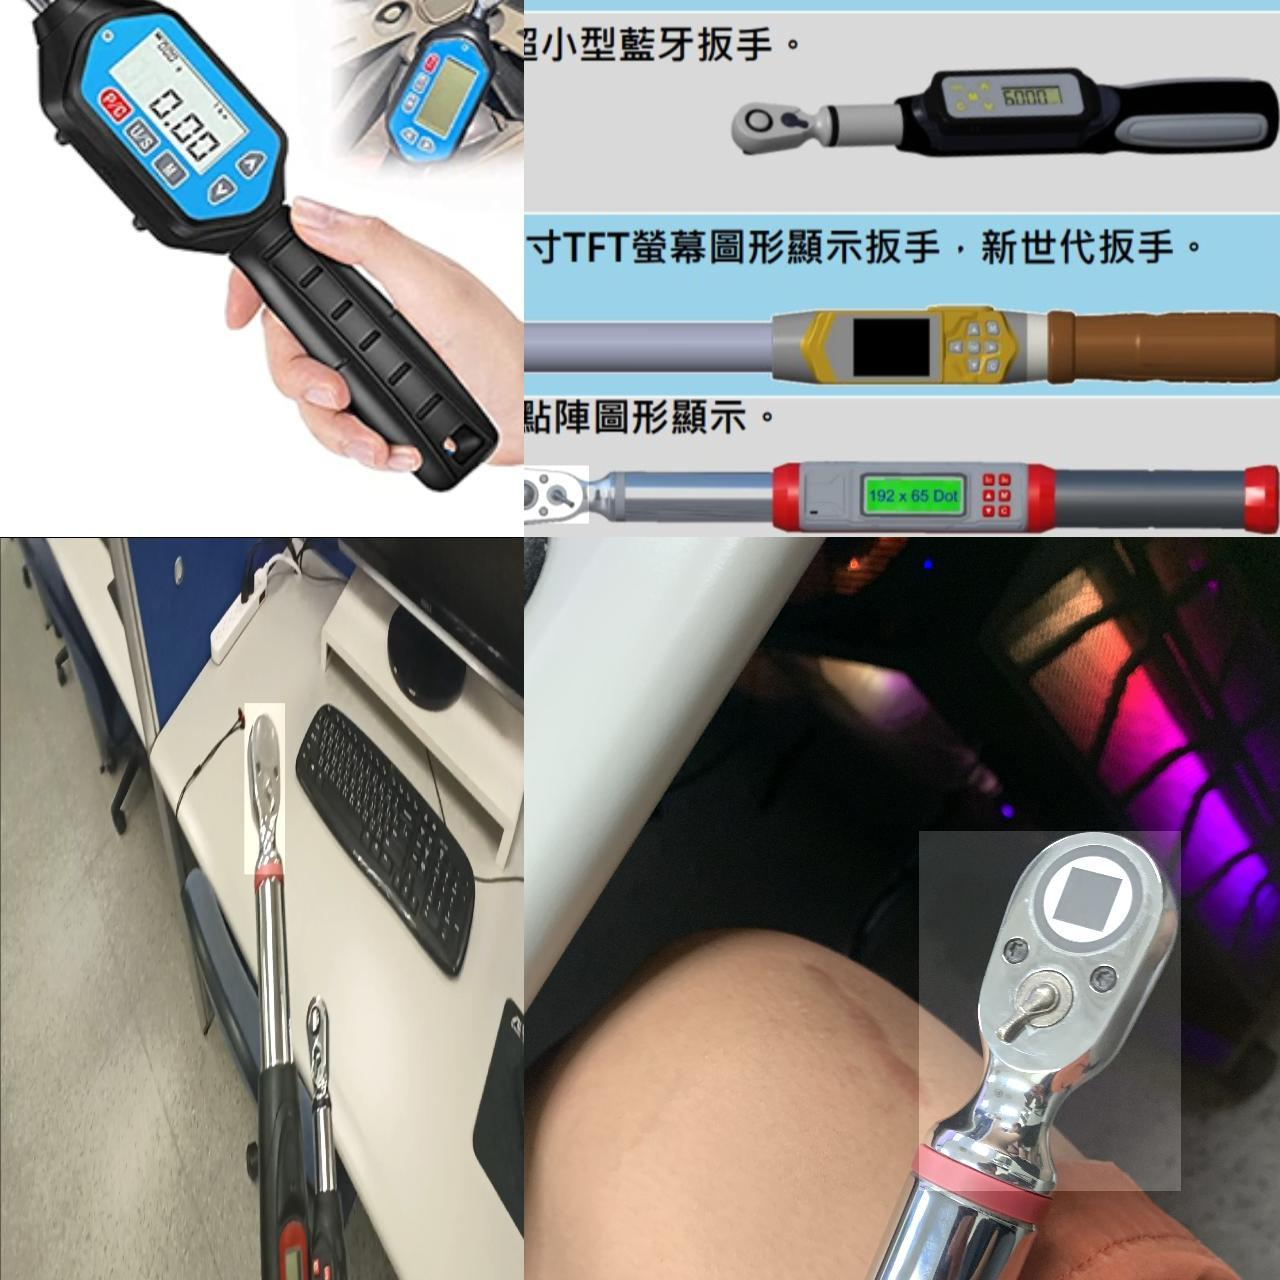Tool: (918, 830, 1180, 1190), (244, 702, 284, 874), (729, 98, 817, 154), (524, 465, 588, 523), (305, 994, 334, 1099)
